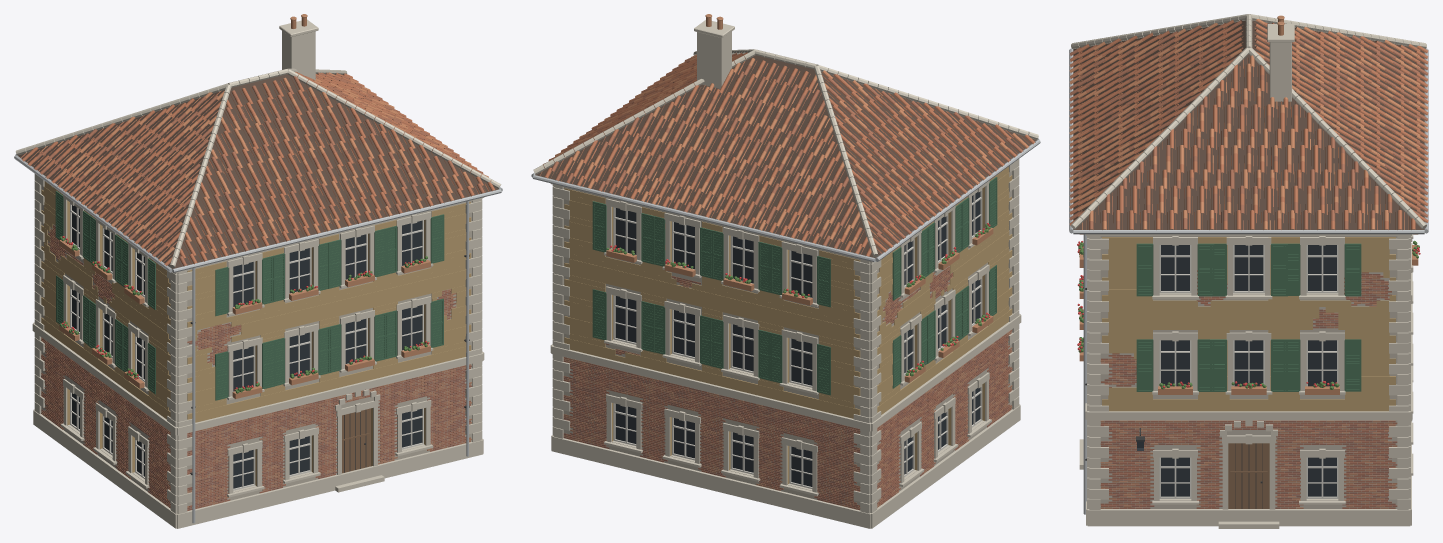
Rendered from CornerHouse.fbx.
3 views of the same model, side by side, from view 1: azimuth 30°, elevation 25°; view 2: azimuth 150°, elevation 25°; view 3: azimuth 270°, elevation 25° (orthographic). The views are drawn at different scales.
Parts seen in each view (by area): view 1: CornerHouse; view 2: CornerHouse; view 3: CornerHouse.
Boxes of the visible parts, left/top/right/bottom form: CornerHouse: left=14, top=14, right=502, bottom=528; CornerHouse: left=531, top=14, right=1040, bottom=528; CornerHouse: left=1069, top=14, right=1428, bottom=528.
Bounding box in the file's own units: 13.66 × 15.59 × 11.25.
